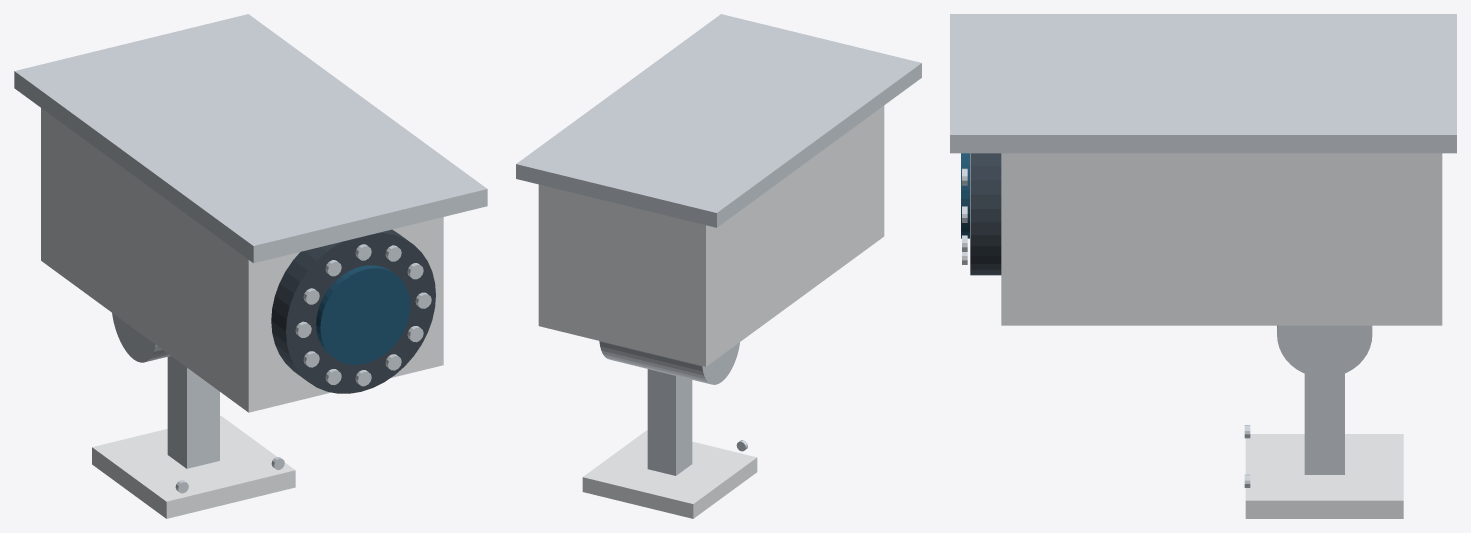
The model's file is model-cctv.glb.
3 renders of one model, left to right at view 1: azimuth 30°, elevation 25°; view 2: azimuth 150°, elevation 25°; view 3: azimuth 270°, elevation 25°, orthographic. The views are drawn at different scales.
Parts seen in each view (by area): view 1: Sun shield, Camera body, Lens bezel, Wall mounting base, Optical lens, Mount arm, Tilt joint; view 2: Camera body, Sun shield, Wall mounting base, Mount arm, Tilt joint; view 3: Camera body, Sun shield, Wall mounting base, Tilt joint, Mount arm, Lens bezel, Optical lens.
Part boxes in pixels (box(x1,y1,x2,y2)): Sun shield: box(14, 14, 487, 263); Camera body: box(41, 108, 443, 412); Lens bezel: box(271, 229, 435, 393); Wall mounting base: box(92, 416, 295, 518); Optical lens: box(316, 265, 410, 364); Mount arm: box(167, 356, 219, 468); Tilt joint: box(112, 313, 170, 362); Camera body: box(538, 105, 884, 366); Sun shield: box(516, 14, 921, 227); Wall mounting base: box(582, 430, 757, 518); Mount arm: box(647, 369, 692, 475); Tilt joint: box(599, 341, 739, 384); Camera body: box(1001, 153, 1442, 325); Sun shield: box(950, 14, 1456, 153); Wall mounting base: box(1245, 434, 1403, 518); Tilt joint: box(1277, 325, 1372, 377); Mount arm: box(1304, 373, 1344, 474); Lens bezel: box(970, 153, 1001, 275); Optical lens: box(961, 153, 969, 238).
Bounding box in the file's own units: 0.78 × 1.24 × 1.38.
